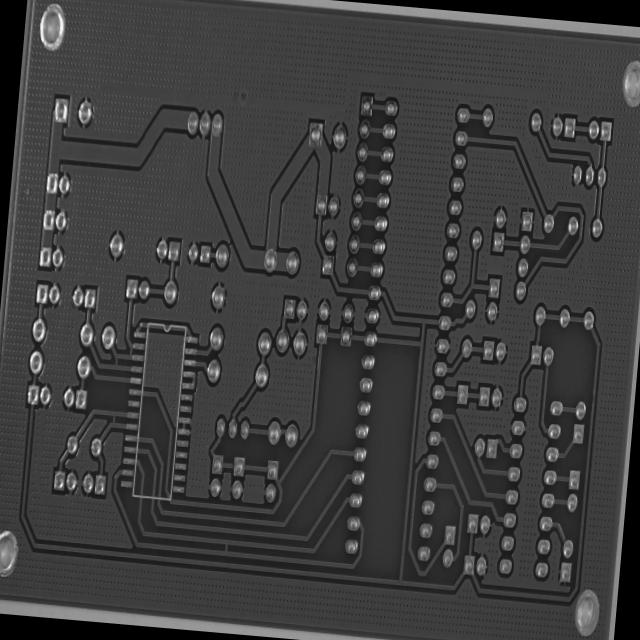short: (109, 346, 123, 372), (219, 535, 232, 561), (107, 406, 118, 430), (126, 341, 136, 358)
